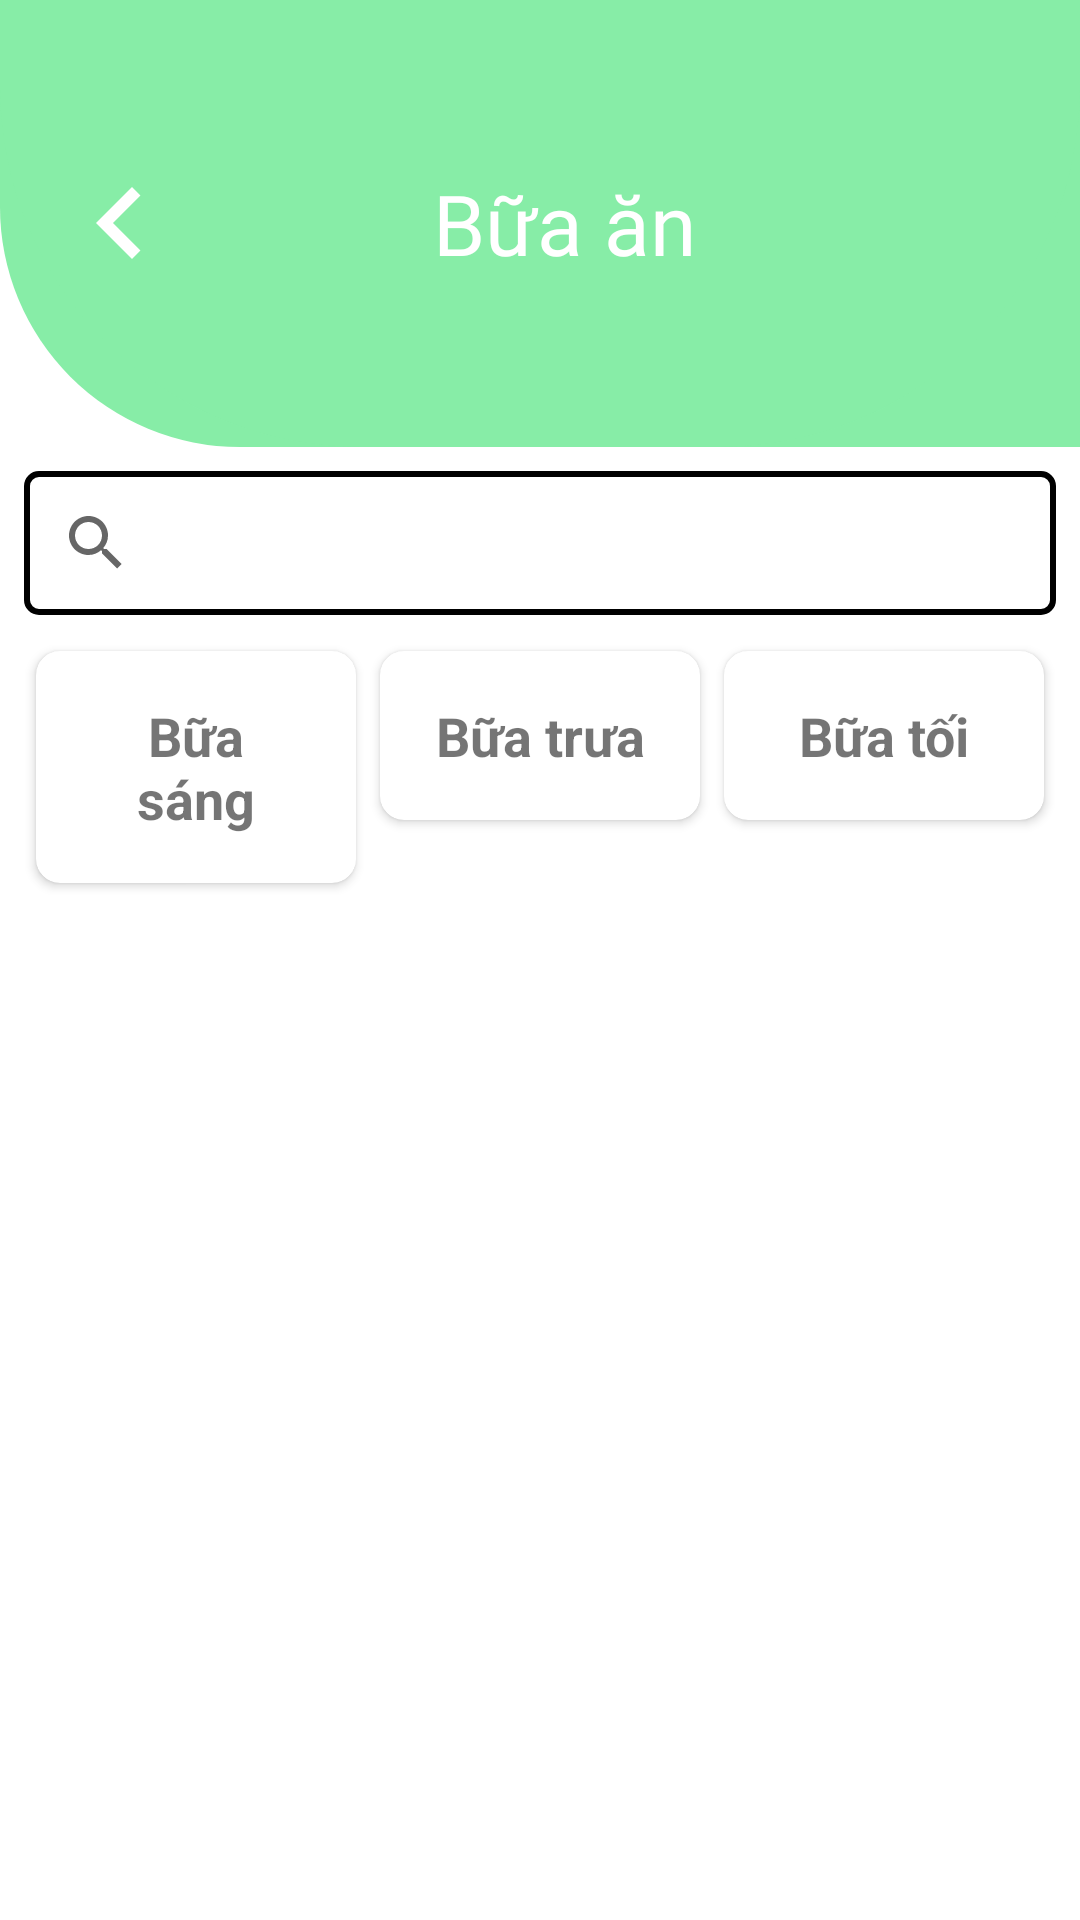

Screen size 1080px x 1920px. Icon name, then its center in pixels as point (x, y):
Back: point (118, 223)
